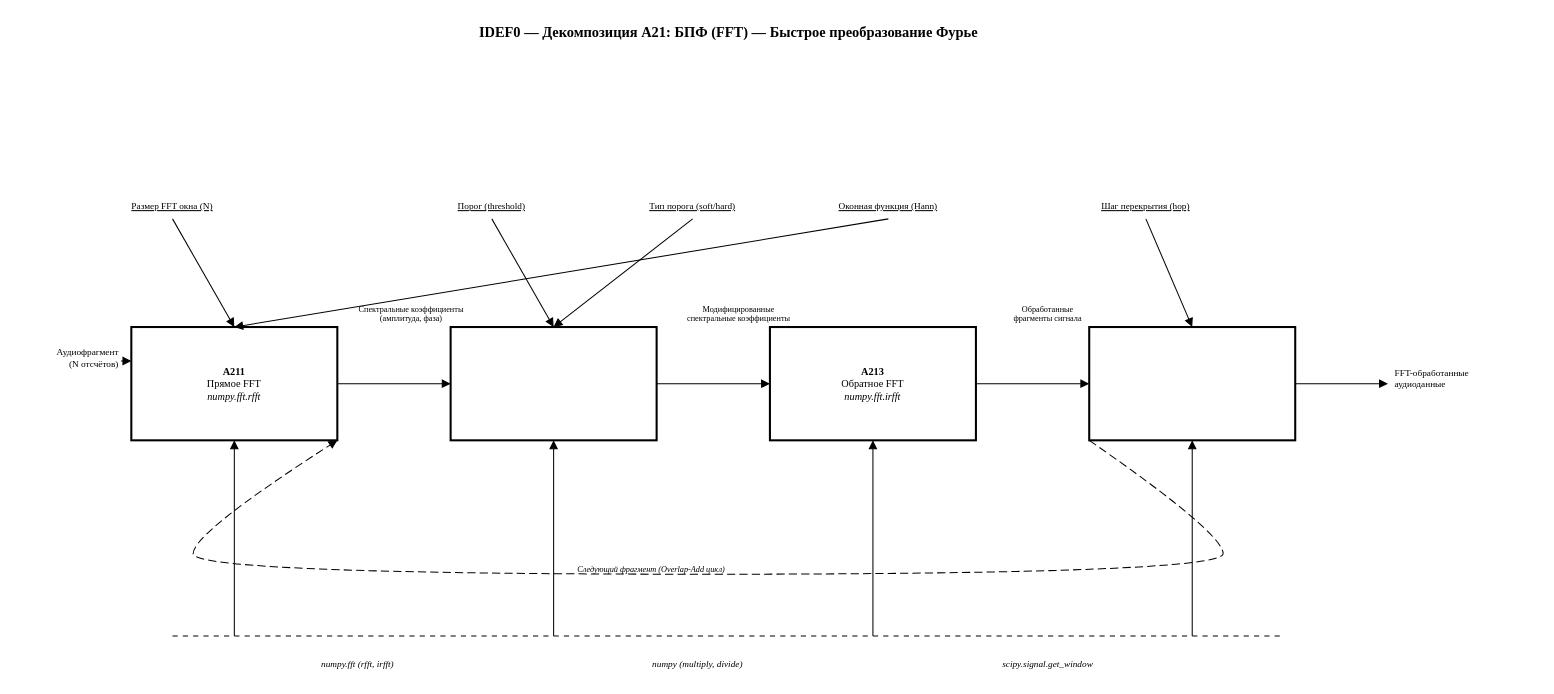
This 1554x694 diagram has some shape labels left out. Each missing label, with the centre of its shape:
A212 Пороговая обработка спектра Soft/Hard thresholding: point (553, 383)
A214 Overlap-Add и нормализация: point (1192, 383)
